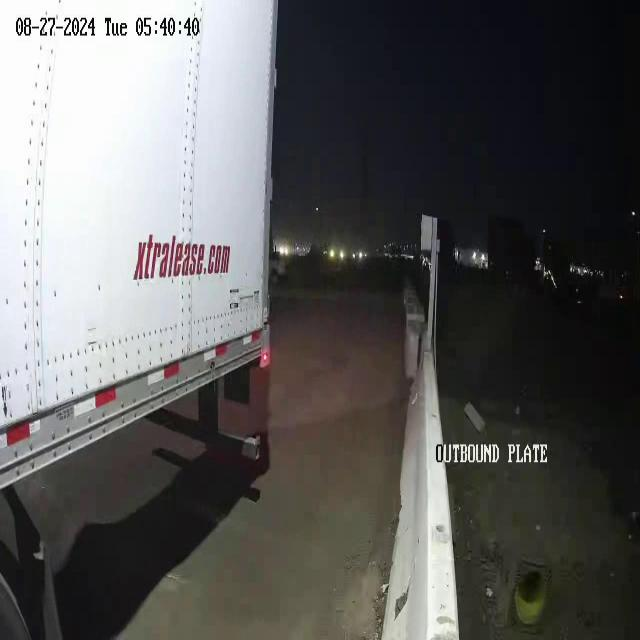TRUCK_OUT: (1, 1, 279, 488)
